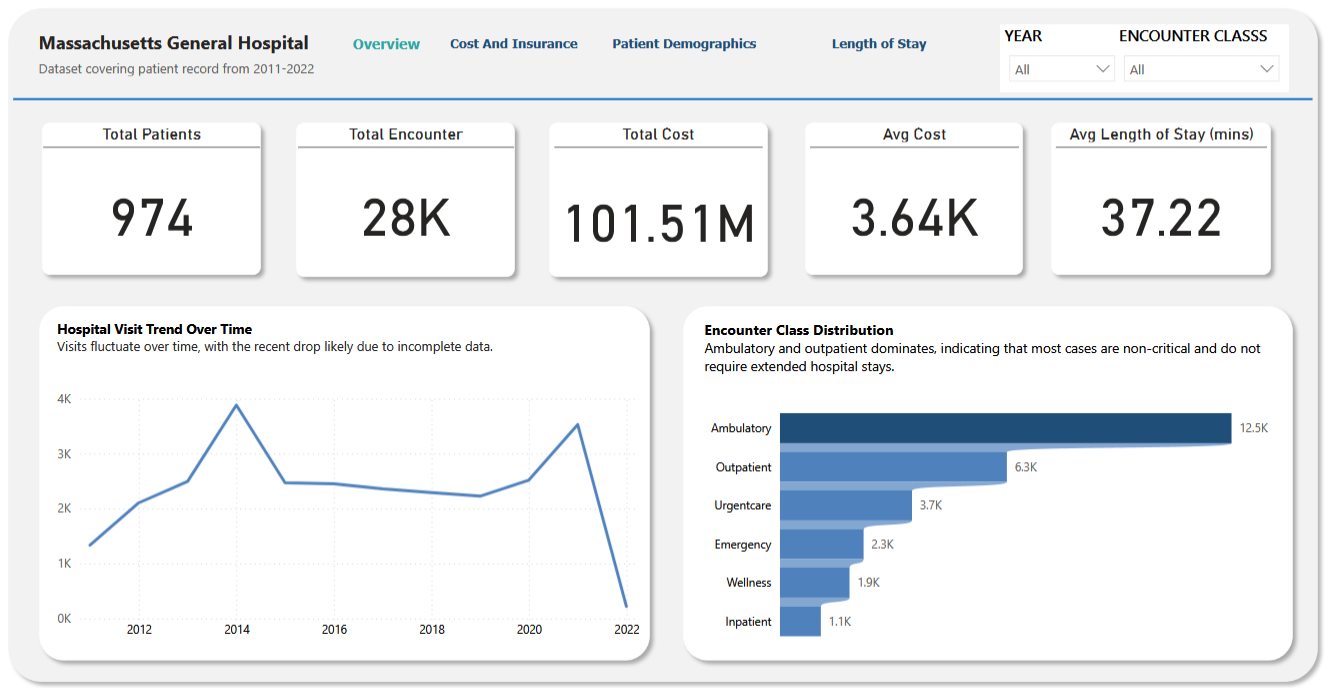

What the dashboard file says about the page in this screenshot:
{"tool":"powerbi","page":{"name":"OVERVIEW","canvas":[1400,740],"ordinal":0},"visuals":[{"type":"shape","box":[21.7,17.1,1366.5,709.7],"z":0},{"type":"textbox","title":"Massachusetts General Hospital","box":[57.5,48.1,313.7,77.6],"z":1000},{"type":"actionButton","box":[358.7,41.9,122.7,40.4],"z":2000},{"type":"actionButton","box":[481.4,41.9,139.8,40.4],"z":3000},{"type":"actionButton","box":[632,41.9,189.4,40.4],"z":4000},{"type":"actionButton","box":[821.5,41.9,211.2,40.4],"z":5000},{"type":"shape","box":[35.7,111.8,1337,14],"z":6000},{"type":"shape","box":[57.5,133.5,242.2,175.5],"z":7000},{"type":"shape","box":[318.3,133.5,242.2,177],"z":8000},{"type":"shape","box":[841.6,133.5,242.2,175.5],"z":9000},{"type":"shape","box":[1094.8,133.5,243.8,175.5],"z":10000},{"type":"card","title":"Total Patients","fields":{"Values":["encounters.Total Patient"]},"box":[66.8,144.4,223.6,153.7],"z":11000},{"type":"card","title":"Total Encounter","fields":{"Values":["encounters.Total Encounter"]},"box":[329.2,144.4,222.1,153.7],"z":12000},{"type":"card","title":"Avg Cost","fields":{"Values":["encounters.Avg Cost"]},"box":[855.6,144.4,215.8,153.7],"z":13000},{"type":"card","title":"Avg Length of Stay (mins)","fields":{"Values":["encounters.AVE length of stay"]},"box":[1108.7,144.4,217.4,153.7],"z":14000},{"type":"shape","box":[54.4,323,646,382],"z":15000},{"type":"shape","box":[579.2,133.5,242.2,177],"z":16000},{"type":"card","title":"Total Cost","fields":{"Values":["encounters.Total Cost"]},"box":[593.2,144.4,214.3,164.6],"z":17000},{"type":"shape","box":[715.9,323,646,382],"z":18000},{"type":"lineChart","fields":{"Y":["CountNonNull(encounters.ENCOUNTER ID)"],"Category":["encounters.ADMISSION DATE.Variation.Date Hierarchy.Year","encounters.ADMISSION DATE.Variation.Date Hierarchy.Quarter","encounters.ADMISSION DATE.Variation.Date Hierarchy.Month","encounters.ADMISSION DATE.Variation.Date Hierarchy.Day"]},"box":[76.1,413.1,608.7,270.2],"z":19000},{"type":"textbox","box":[76.1,340.1,608.7,73],"z":20000},{"type":"barChart","fields":{"Y":["CountNonNull(encounters.ENCOUNTER ID)"],"Category":["encounters.ENCOUNTERCLASS"]},"box":[742.3,413.1,596.3,279.5],"z":21000},{"type":"textbox","title":"Encounter Class Distribution","box":[741.7,340,596.7,85],"z":22000},{"type":"shape","box":[1051.3,41.9,298.1,69.9],"z":25000},{"type":"slicer","title":"YEAR","fields":{"Values":["encounters.ADMISSION DATE.Variation.Date Hierarchy.Year"]},"box":[1051.3,41.9,128.9,77.6],"z":26000},{"type":"slicer","title":"ENCOUNTER CLASSS","fields":{"Values":["encounters.ENCOUNTERCLASS"]},"box":[1169.3,41.9,180.1,77.6],"z":27000}]}

Visuals, with their boxes in screenshot pixels (x1, y1, x2, y2), scaled from the page's 1400x740 canvas onto the 1331x688 screenshot:
shape: 21:16:1320:676
"Massachusetts General Hospital" textbox: 55:45:353:117
actionButton: 341:39:458:77
actionButton: 458:39:591:77
actionButton: 601:39:781:77
actionButton: 781:39:982:77
shape: 34:104:1305:117
shape: 55:124:285:287
shape: 303:124:533:289
shape: 800:124:1030:287
shape: 1041:124:1273:287
"Total Patients" card: 64:134:276:277
"Total Encounter" card: 313:134:524:277
"Avg Cost" card: 813:134:1019:277
"Avg Length of Stay (mins)" card: 1054:134:1261:277
shape: 52:300:666:655
shape: 551:124:781:289
"Total Cost" card: 564:134:768:287
shape: 681:300:1295:655
lineChart - CountNonNull(encounters.ENCOUNTER ID) x encounters.ADMISSION DATE.Variation.Date Hierarchy.Year: 72:384:651:635
textbox: 72:316:651:384
barChart - CountNonNull(encounters.ENCOUNTER ID) x encounters.ENCOUNTERCLASS: 706:384:1273:644
"Encounter Class Distribution" textbox: 705:316:1272:395
shape: 999:39:1283:104
"YEAR" slicer: 999:39:1122:111
"ENCOUNTER CLASSS" slicer: 1112:39:1283:111
